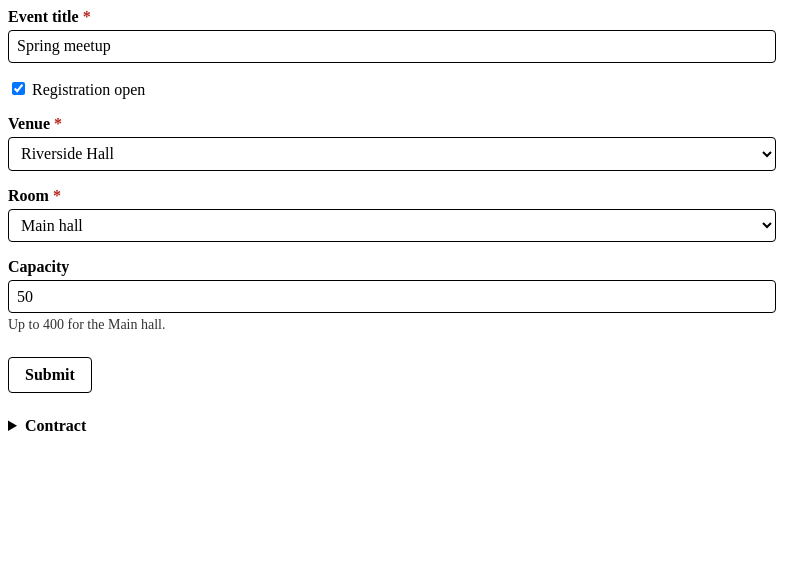
submitting example 2 › sends no If-Match when the page turns the fingerprint off
This screenshot has width=793, height=580.
Click the button "Submit" at (50, 375), box [8,357,92,393]
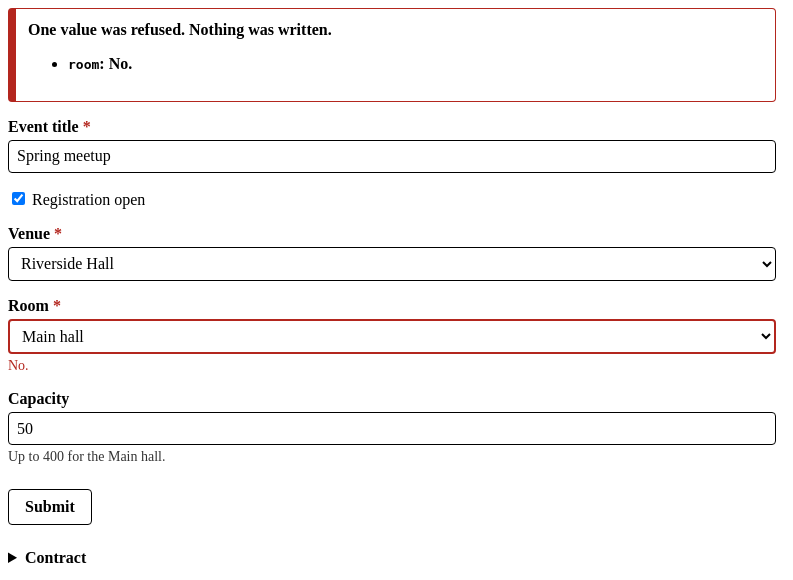
Check: the message "One value was refused. Nothing was written. room: No." is shown, box [8,8,776,102]
